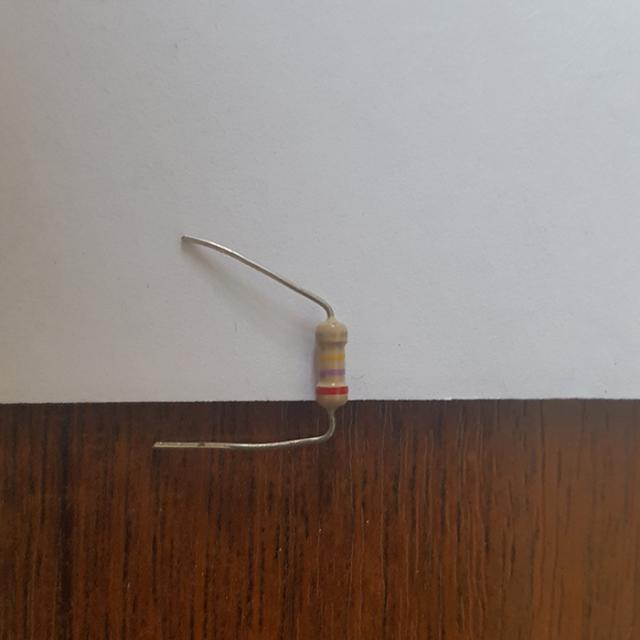gold: (316, 331, 347, 338)
red: (317, 388, 346, 395)
resistor: (312, 312, 357, 425)
violet: (320, 368, 343, 375)
yellow: (321, 355, 344, 361)
